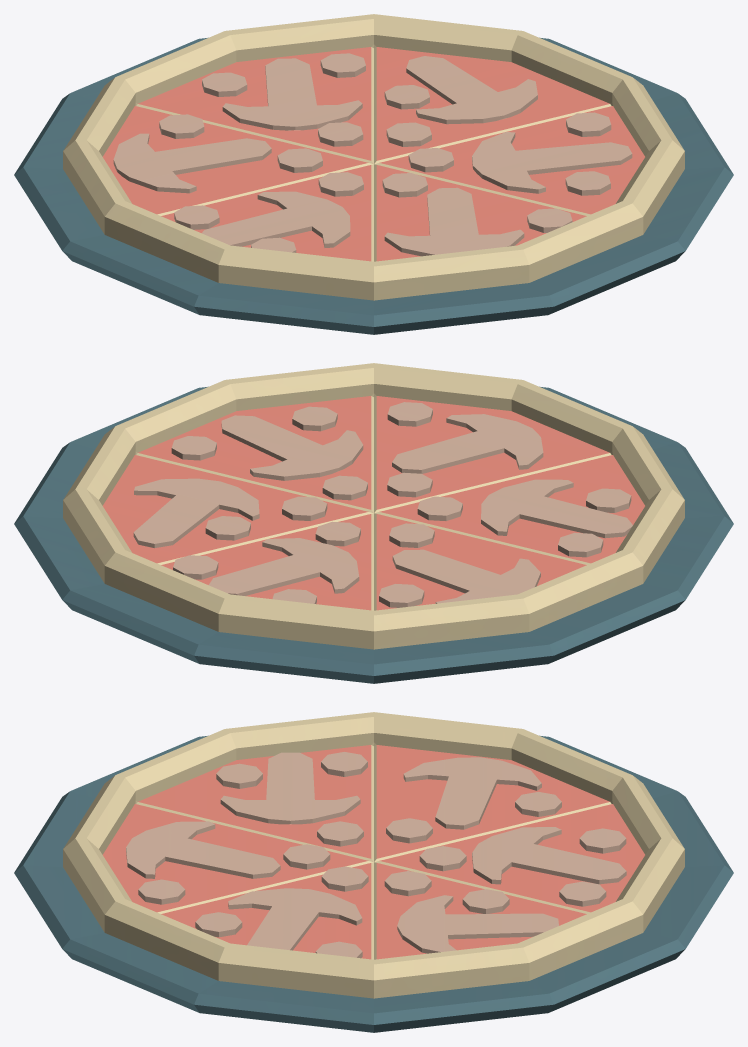
The model's file is pizza-mushrooms-on-plate.glb.
3 views of the same model, one above another, from view 1: azimuth 30°, elevation 25°; view 2: azimuth 150°, elevation 25°; view 3: azimuth 270°, elevation 25° (orthographic).
Visible parts, largest first — view 1: PizzaMushroomsOnPlate.001; view 2: PizzaMushroomsOnPlate.001; view 3: PizzaMushroomsOnPlate.001.
Boxes of the visible parts, x1,y1,x2,y2 form: PizzaMushroomsOnPlate.001: (14, 14, 733, 334); PizzaMushroomsOnPlate.001: (14, 363, 733, 683); PizzaMushroomsOnPlate.001: (14, 712, 733, 1032).
Size of the model in its own units: 0.6902 by 0.05 by 0.6902.
1 material, 1 textured.
